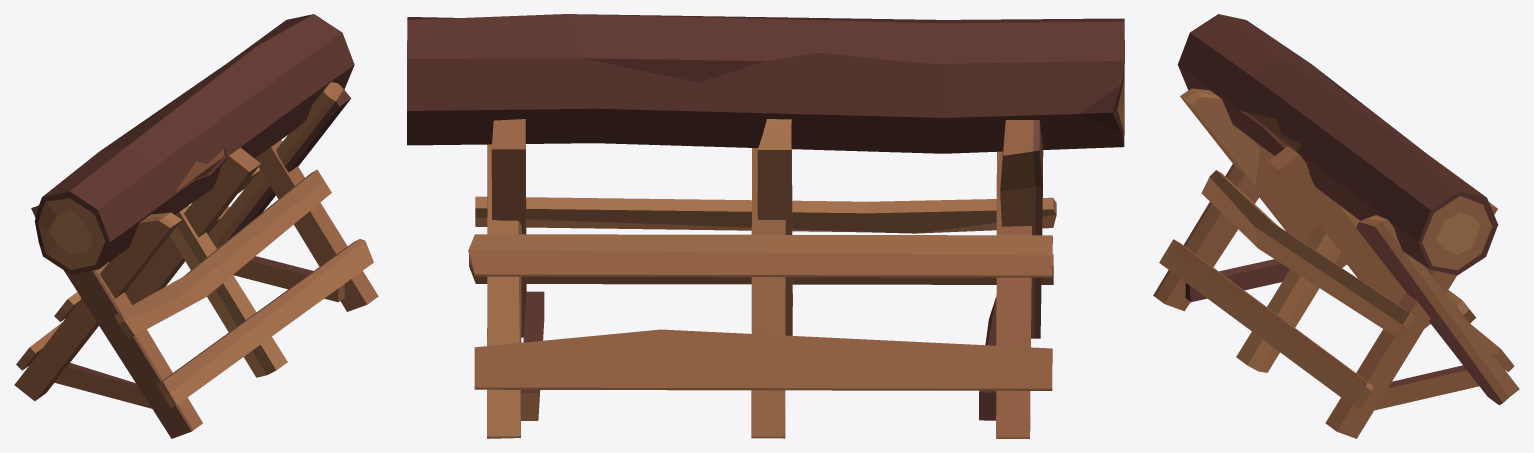
Rendered from goat_with_log.fbx.
3 renders of one model, left to right at view 1: azimuth 30°, elevation 25°; view 2: azimuth 150°, elevation 25°; view 3: azimuth 270°, elevation 25°, orthographic. The views are drawn at different scales.
Parts seen in each view (by area): view 1: goats_for_sawing, Deck; view 2: goats_for_sawing, Deck; view 3: goats_for_sawing, Deck.
Boxes of the visible parts, bbox=[...] form: goats_for_sawing: bbox=[14, 82, 378, 438]; Deck: bbox=[35, 14, 354, 274]; goats_for_sawing: bbox=[468, 119, 1056, 438]; Deck: bbox=[407, 14, 1124, 153]; goats_for_sawing: bbox=[1153, 88, 1519, 438]; Deck: bbox=[1177, 14, 1498, 275].
Bounding box in the file's own units: 183 × 112 × 146.
